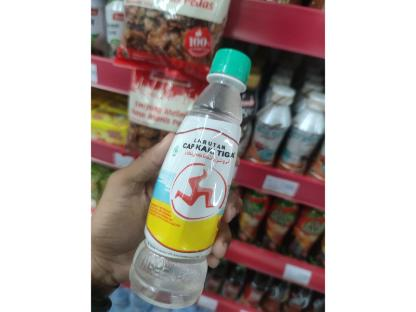Plastic Bottle: (96, 38, 248, 312)
